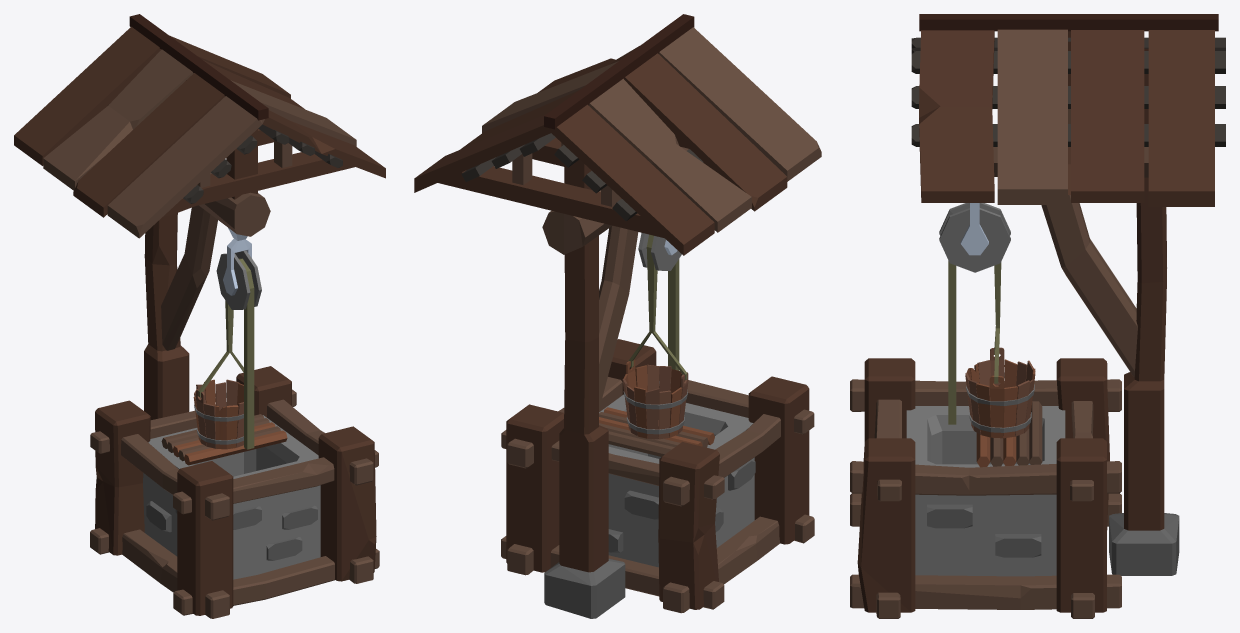
Rendered from Well Asia.fbx.
3 renders of one model, left to right at view 1: azimuth 30°, elevation 25°; view 2: azimuth 150°, elevation 25°; view 3: azimuth 270°, elevation 25°, orthographic. The views are drawn at different scales.
Parts seen in each view (by area): view 1: Well; view 2: Well; view 3: Well.
Part boxes in pixels (<box>): Well: <box>14,14,385,618</box>; Well: <box>414,14,821,618</box>; Well: <box>850,14,1225,618</box>.
Size of the model in its own units: 1.26 by 2.25 by 1.4.
